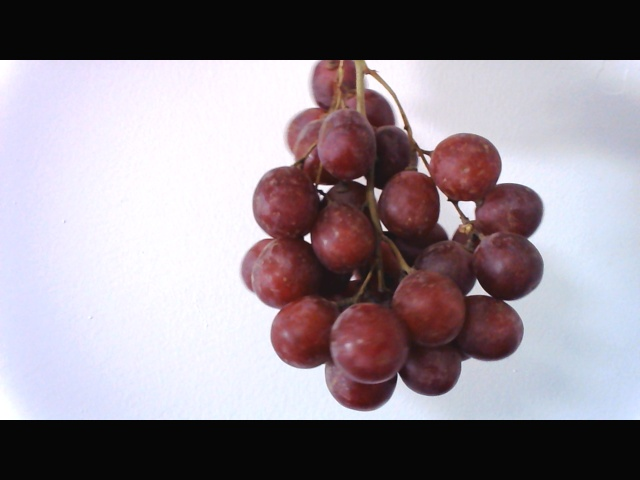grape: (235, 61, 545, 406)
